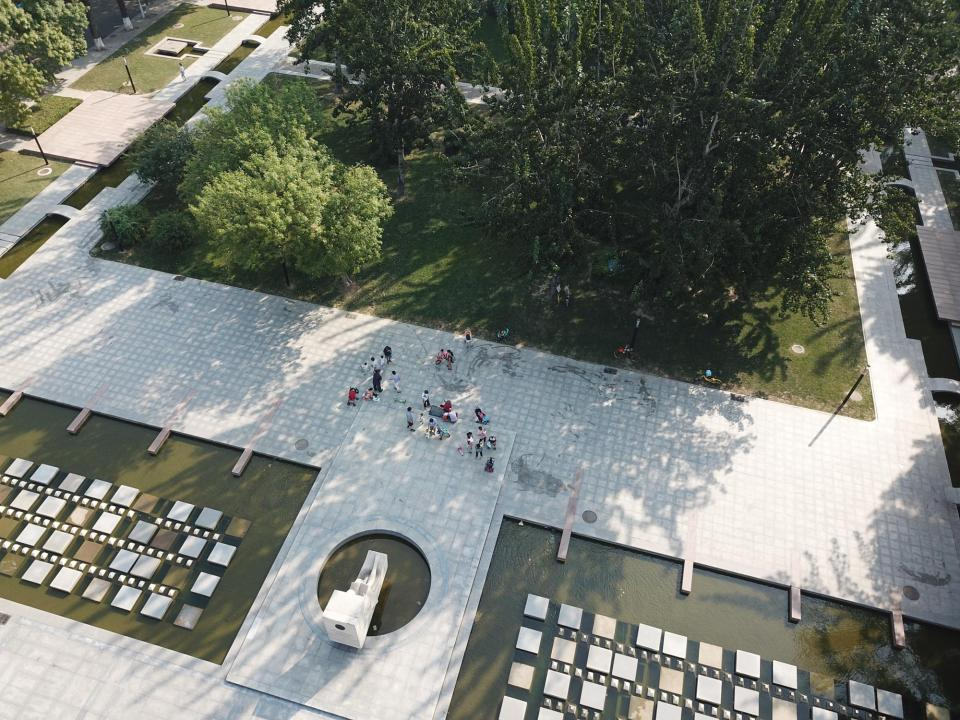car: (484, 457, 495, 472)
